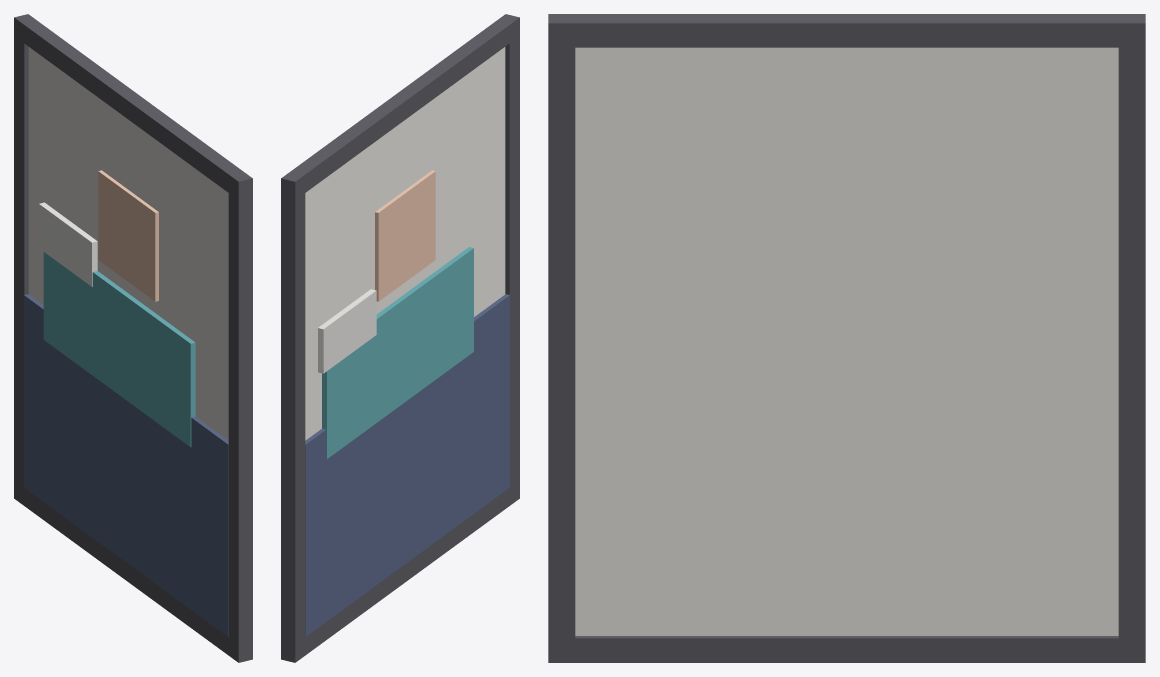
Rendered from Poster_Great_Wave.glb.
3 renders of one model, left to right at view 1: azimuth 30°, elevation 25°; view 2: azimuth 150°, elevation 25°; view 3: azimuth 270°, elevation 25°, orthographic. The views are drawn at different scales.
Visible parts, largest first — view 1: Poster_Great_Wave; view 2: Poster_Great_Wave; view 3: Poster_Great_Wave.
Boxes of the visible parts, <box> form: Poster_Great_Wave: <box>14,14,252,662</box>; Poster_Great_Wave: <box>281,14,519,662</box>; Poster_Great_Wave: <box>548,14,1145,662</box>.
Bounding box in the file's own units: 0.0224 × 0.65 × 0.55.
